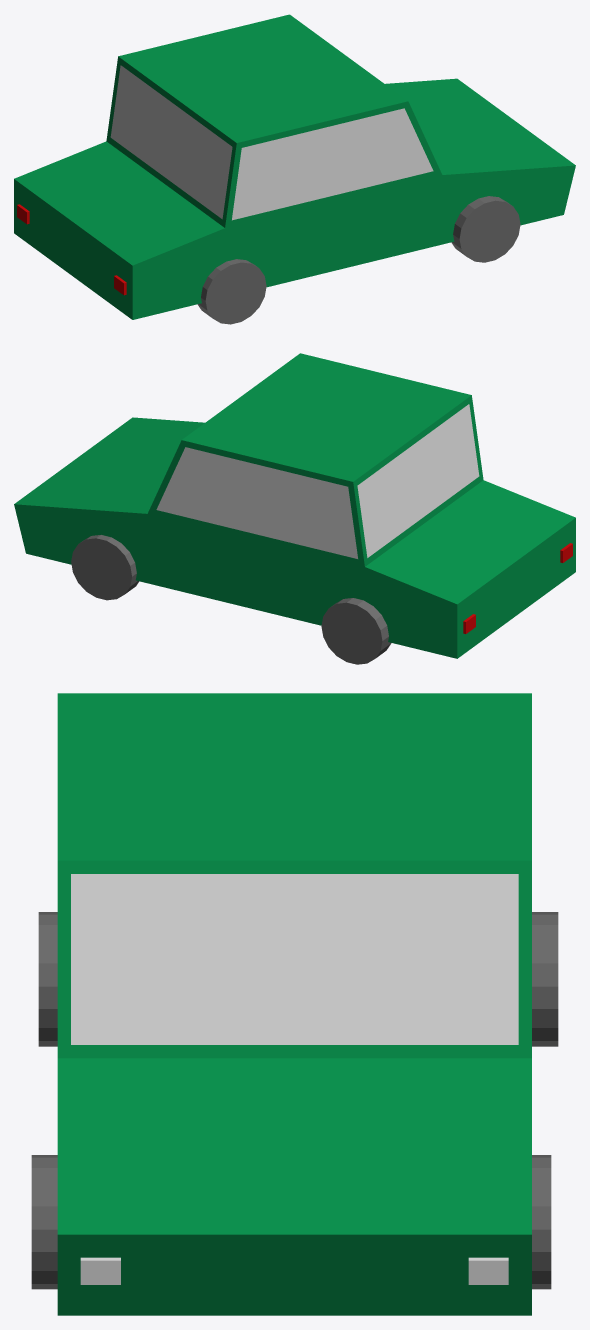
Rendered from Green Car.fbx.
3 renders of one model, top to bottom at view 1: azimuth 30°, elevation 25°; view 2: azimuth 150°, elevation 25°; view 3: azimuth 270°, elevation 25°, orthographic. The views are drawn at different scales.
Parts seen in each view (by area): view 1: Car 2; view 2: Car 2; view 3: Car 2.
Boxes of the visible parts, x1,y1,x2,y2 form: Car 2: (14,14,575,324); Car 2: (14,353,575,664); Car 2: (31,693,558,1315).
Size of the model in its own units: 7704 by 2893 by 3939.
